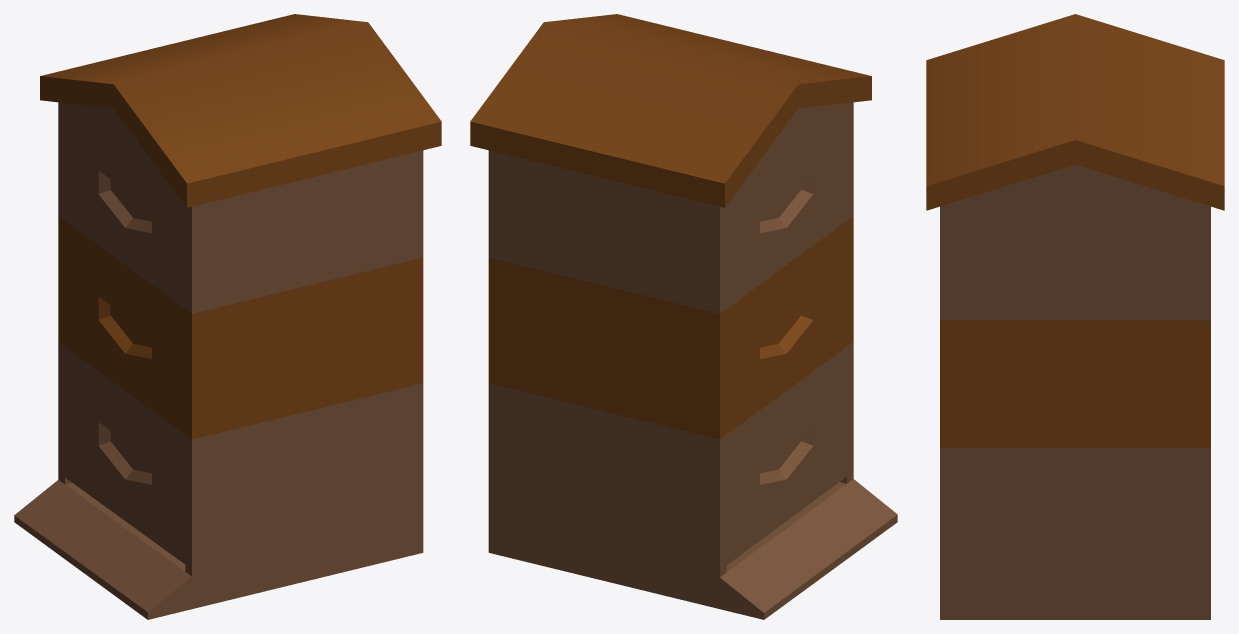
The model's file is WoodenBeeBox.fbx.
The picture shows the model from 3 angles, left to right: view 1: azimuth 30°, elevation 25°; view 2: azimuth 150°, elevation 25°; view 3: azimuth 270°, elevation 25°; orthographic projection.
Parts seen in each view (by area): view 1: BeeBox_Body03, BeeBox_Lid, BeeBox_Body02, BeeBox_Body01; view 2: BeeBox_Body03, BeeBox_Lid, BeeBox_Body02, BeeBox_Body01; view 3: BeeBox_Body03, BeeBox_Lid, BeeBox_Body01, BeeBox_Body02.
Part boxes in pixels (bbox=[...]): BeeBox_Body03: bbox=[14, 342, 423, 619]; BeeBox_Lid: bbox=[40, 14, 441, 207]; BeeBox_Body02: bbox=[58, 216, 423, 439]; BeeBox_Body01: bbox=[58, 102, 423, 313]; BeeBox_Body03: bbox=[488, 342, 897, 619]; BeeBox_Lid: bbox=[470, 14, 871, 207]; BeeBox_Body02: bbox=[488, 216, 853, 439]; BeeBox_Body01: bbox=[488, 102, 853, 313]; BeeBox_Body03: bbox=[940, 448, 1210, 619]; BeeBox_Lid: bbox=[926, 14, 1224, 210]; BeeBox_Body01: bbox=[940, 164, 1210, 320]; BeeBox_Body02: bbox=[940, 320, 1210, 447].
Bounding box in the file's own units: 124 × 198 × 110.
